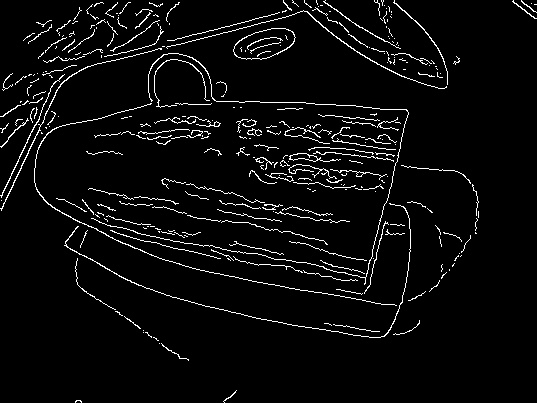cucumber: (24, 91, 411, 299)
